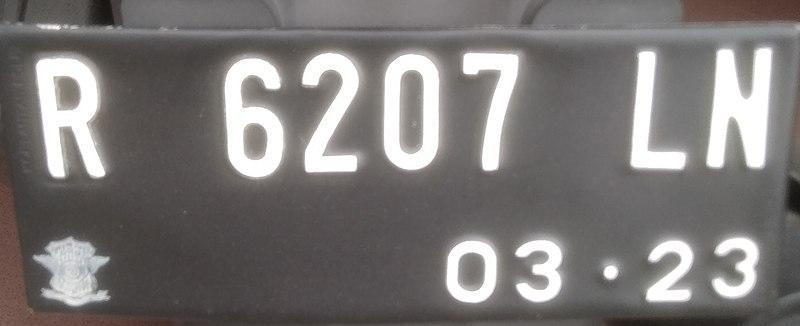0: (375, 48, 448, 179)
2: (294, 49, 376, 180)
6: (212, 49, 294, 181)
7: (448, 44, 532, 178)
L: (622, 45, 698, 179)
N: (697, 41, 784, 178)
R: (25, 46, 114, 190)
